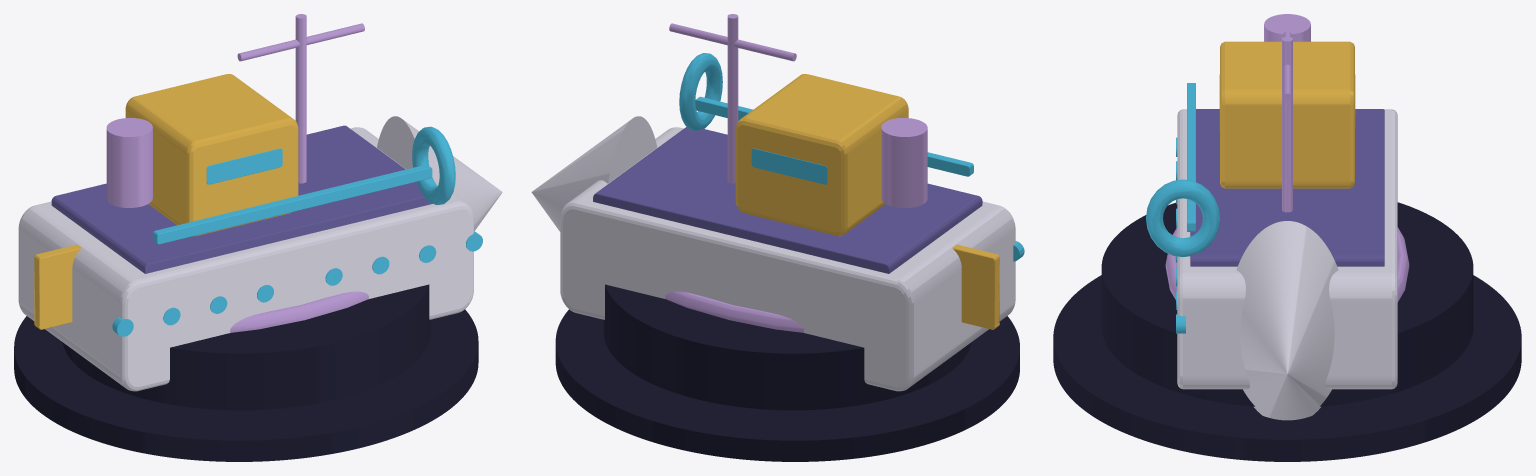
Rendered from 1176_海底两万里_船长的家人.glb.
3 renders of one model, left to right at view 1: azimuth 30°, elevation 25°; view 2: azimuth 150°, elevation 25°; view 3: azimuth 270°, elevation 25°, orthographic. The views are drawn at different scales.
Visible parts, largest first — view 1: card_1176; view 2: card_1176; view 3: card_1176.
Part boxes in pixels (x1,y1,x2,y2): card_1176: [14, 14, 502, 461]; card_1176: [531, 14, 1024, 461]; card_1176: [1053, 14, 1521, 461].
Size of the model in its own units: 1.45 by 1 by 1.22.
